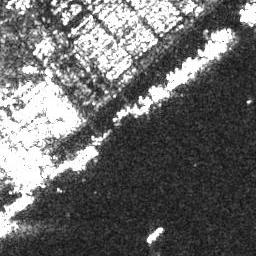ship: (71, 148, 99, 173), (133, 100, 153, 118), (145, 227, 165, 243)
